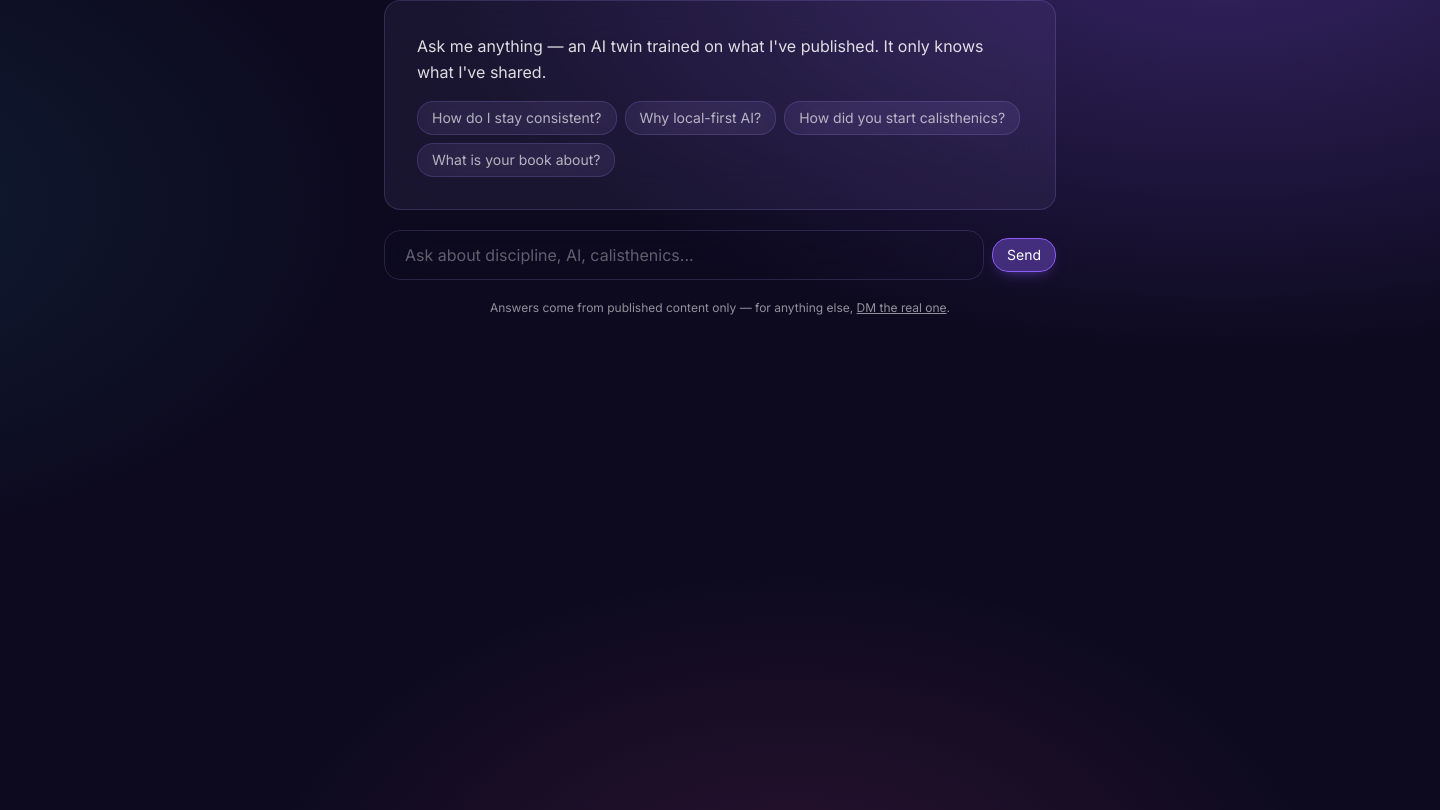
Test: AskChat › shows a rate-limit message on 429
Type "One more question" into the field with test id "ask-input" at (684, 255), box [384, 230, 984, 280]
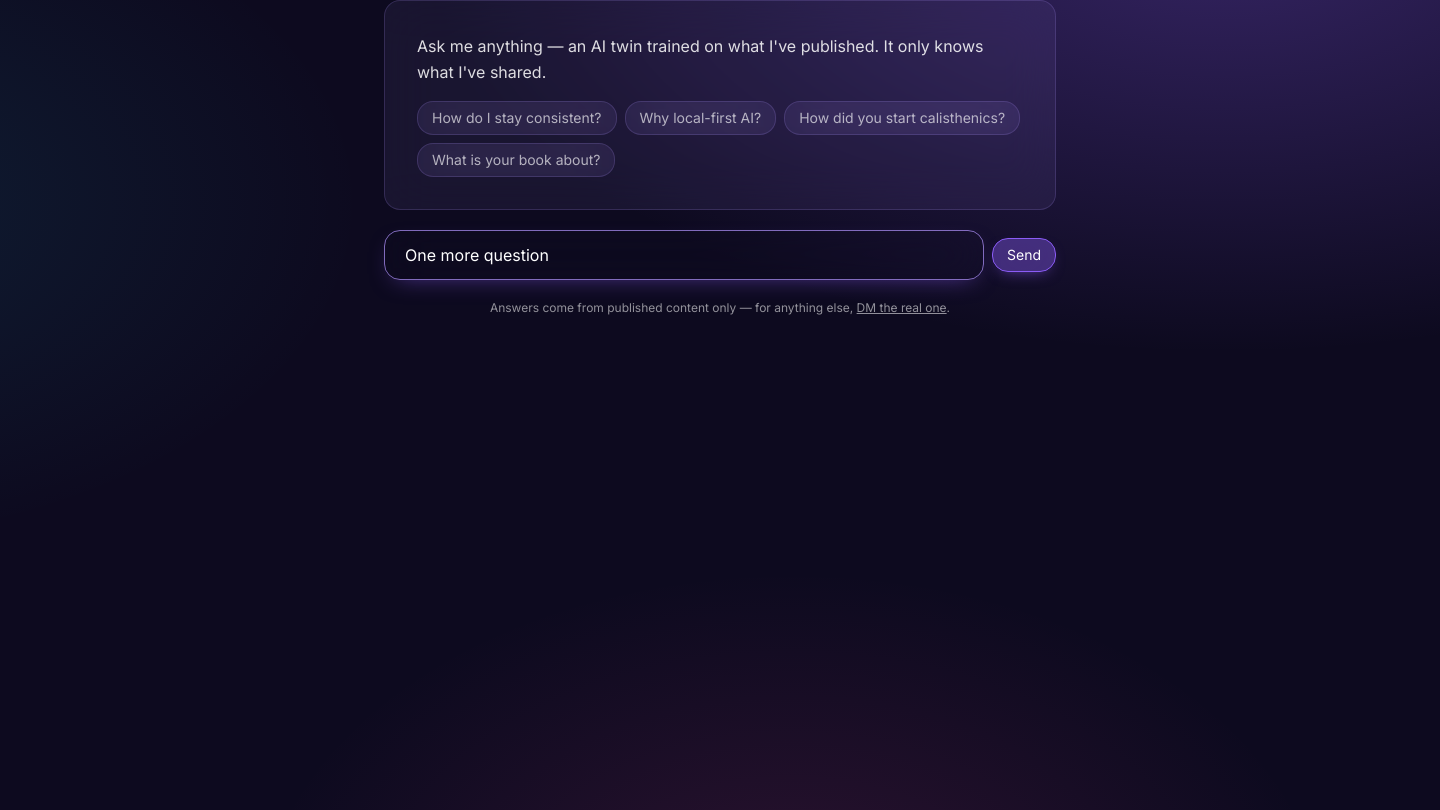
Click the button with test id "ask-send" at (1024, 255), box [992, 238, 1056, 272]
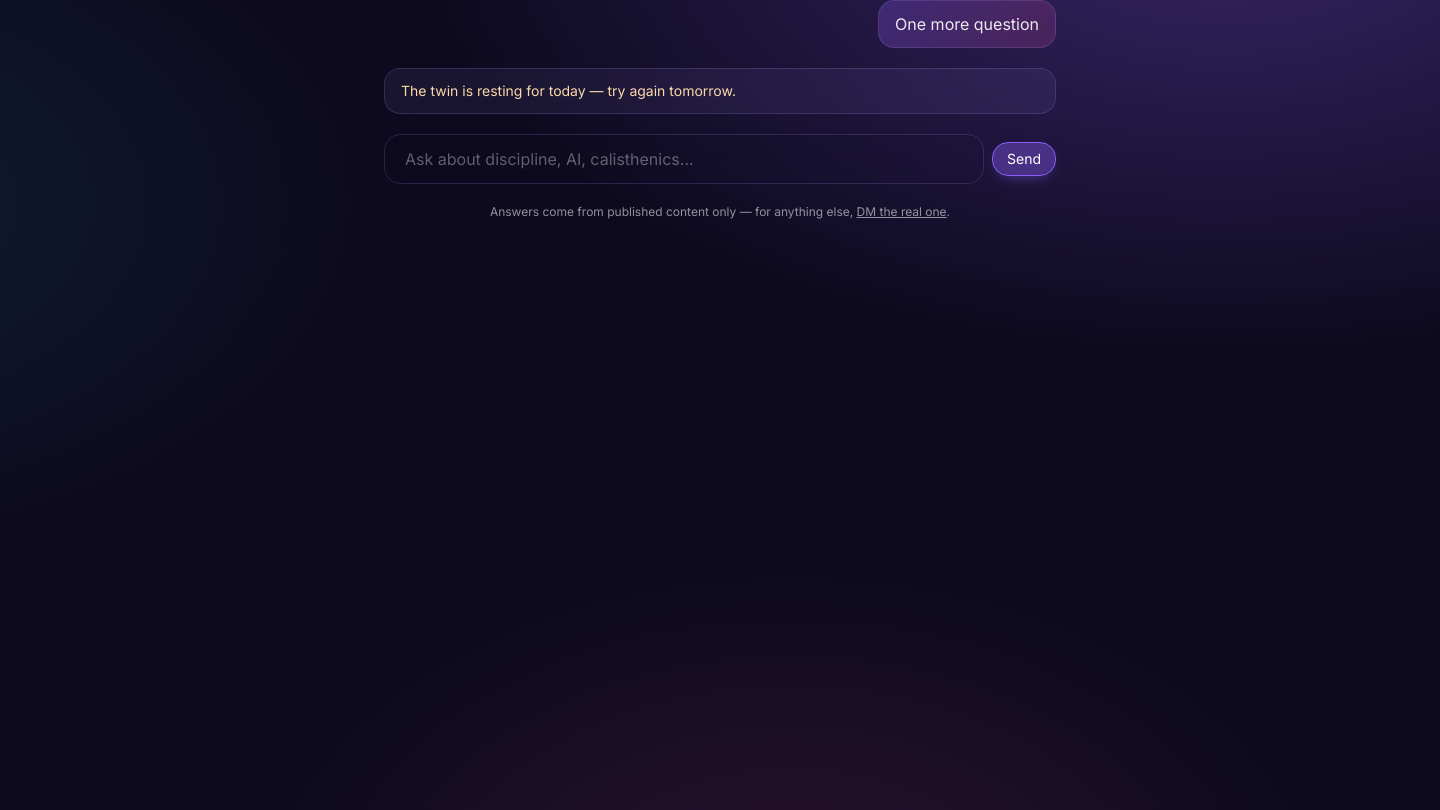
Result: the message "The twin is resting for today — try again tomorrow." is shown at [384, 68, 1056, 114]
Result: the message with test id "ask-error" shows "resting for today" at [401, 82, 736, 99]
